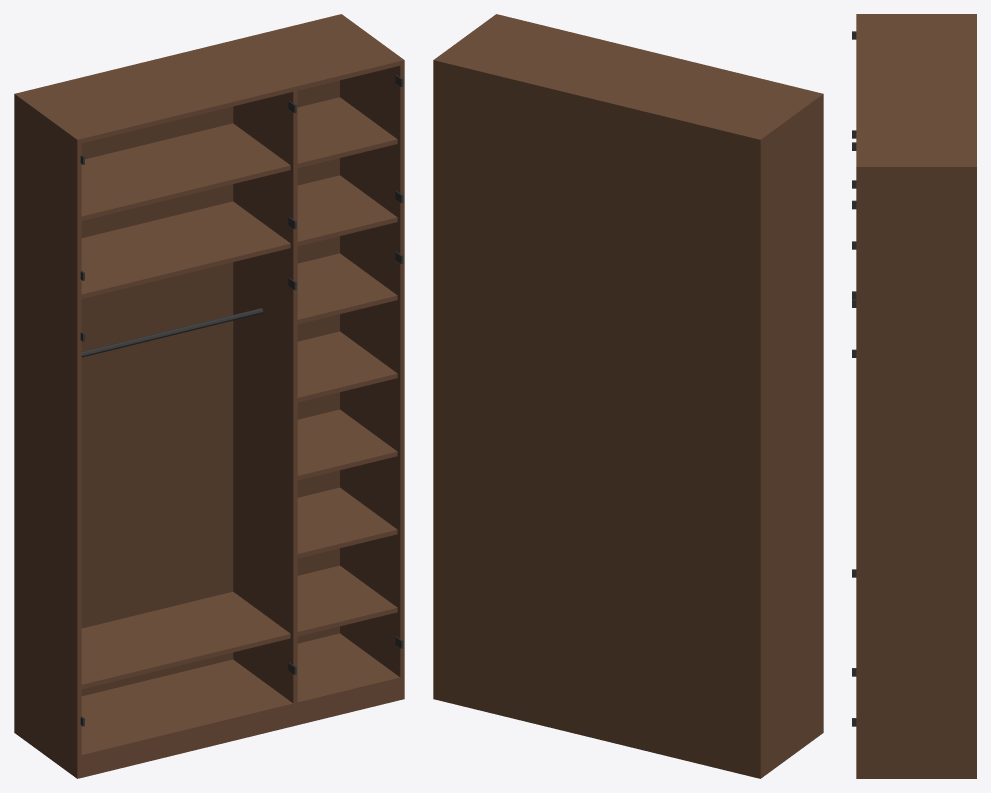
The model's file is Wardrobe8_C3.fbx.
The picture shows the model from 3 angles, left to right: view 1: azimuth 30°, elevation 25°; view 2: azimuth 150°, elevation 25°; view 3: azimuth 270°, elevation 25°; orthographic projection. The views are drawn at different scales.
Parts seen in each view (by area): view 1: Wardrobe8_C3; view 2: Wardrobe8_C3; view 3: Wardrobe8_C3.
Part boxes in pixels (box(x1,y1,x2,y2)): Wardrobe8_C3: box(14, 14, 404, 778); Wardrobe8_C3: box(433, 14, 823, 778); Wardrobe8_C3: box(852, 14, 976, 778).
Bounding box in the file's own units: 150 × 280 × 51.79.
